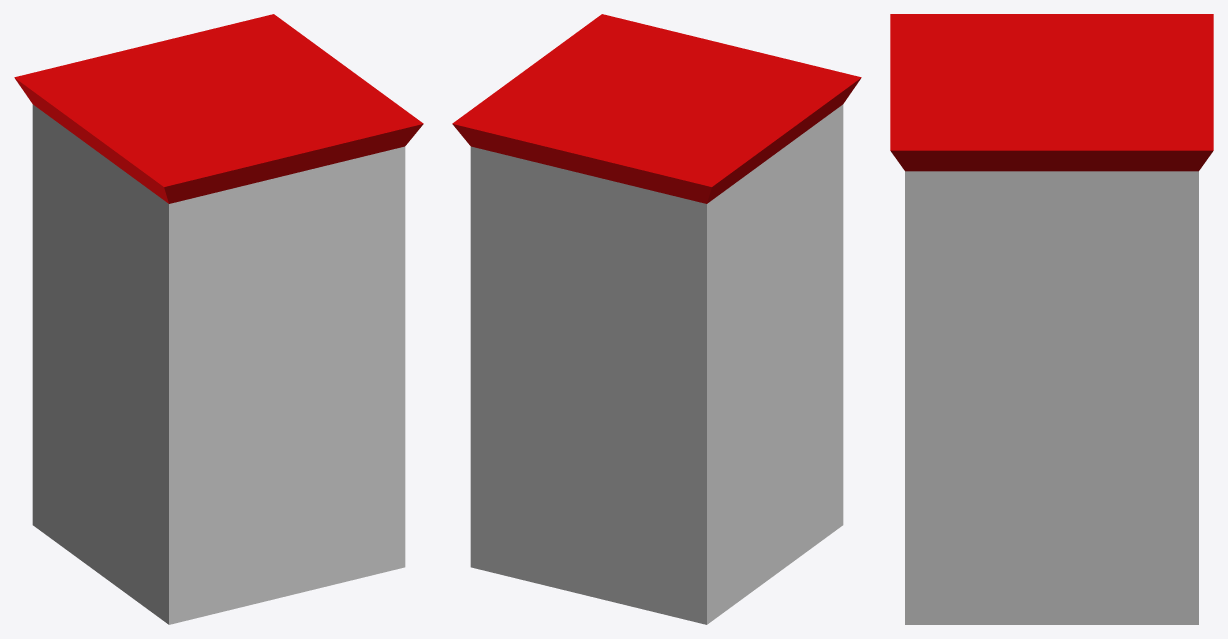
File: House4LOD.fbx
The picture shows the model from 3 angles, left to right: view 1: azimuth 30°, elevation 25°; view 2: azimuth 150°, elevation 25°; view 3: azimuth 270°, elevation 25°; orthographic projection. The views are drawn at different scales.
Parts seen in each view (by area): view 1: House4_LOD1; view 2: House4_LOD1; view 3: House4_LOD1.
Part boxes in pixels (x1=…): House4_LOD1: x1=14, y1=14, x2=423, y2=624; House4_LOD1: x1=452, y1=14, x2=861, y2=624; House4_LOD1: x1=890, y1=14, x2=1213, y2=624.
Bounding box in the file's own units: 275 × 450 × 275.
